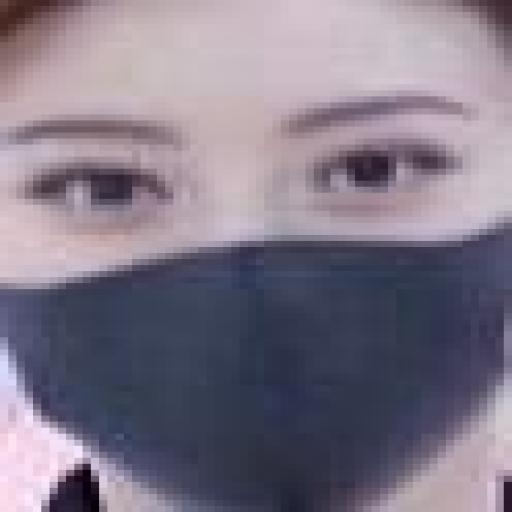mask: (8, 45, 512, 497)
